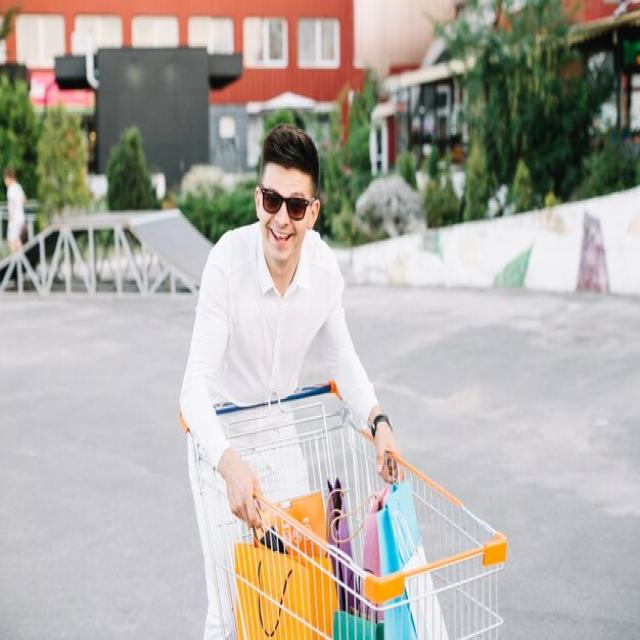Person: (182, 124, 404, 640)
